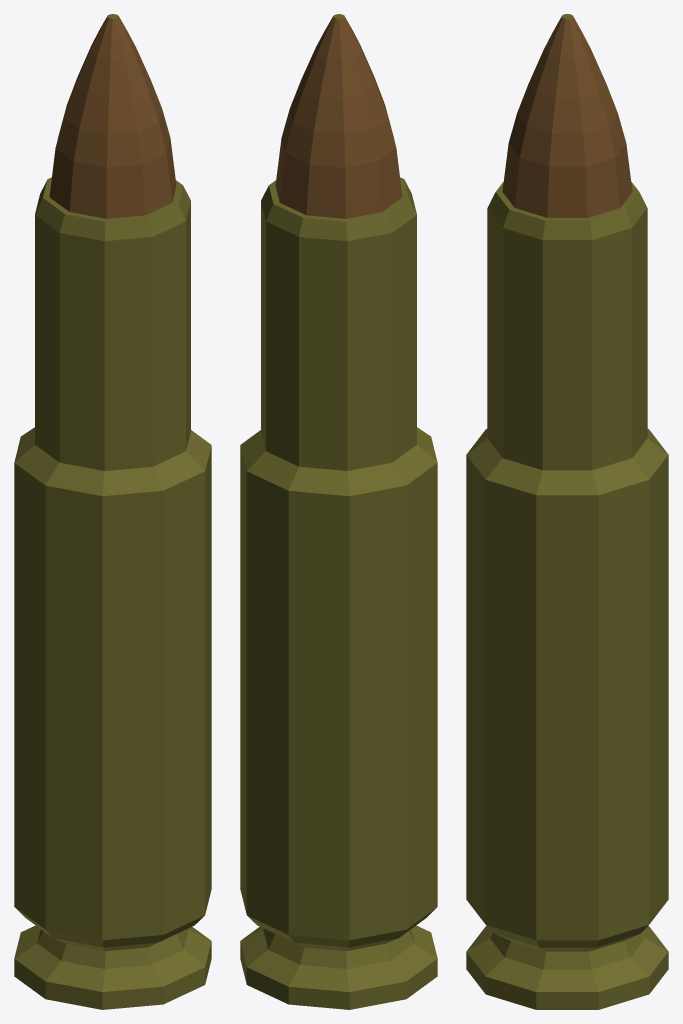
File: ٍShell.fbx
3 renders of one model, left to right at view 1: azimuth 30°, elevation 25°; view 2: azimuth 150°, elevation 25°; view 3: azimuth 270°, elevation 25°, orthographic.
Visible parts, largest first — view 1: Cylinder; view 2: Cylinder; view 3: Cylinder.
Boxes of the visible parts, box(x1,y1,x2,y2) form: Cylinder: box(14, 14, 211, 1009); Cylinder: box(240, 14, 437, 1009); Cylinder: box(466, 14, 668, 1009).
Size of the model in its own units: 79.27 by 433 by 83.35.
